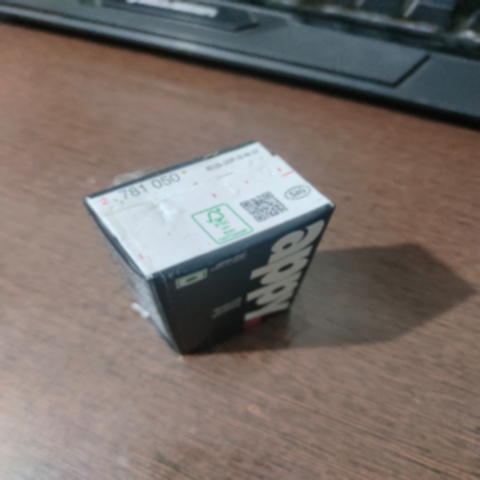appy: (70, 137, 348, 370)
